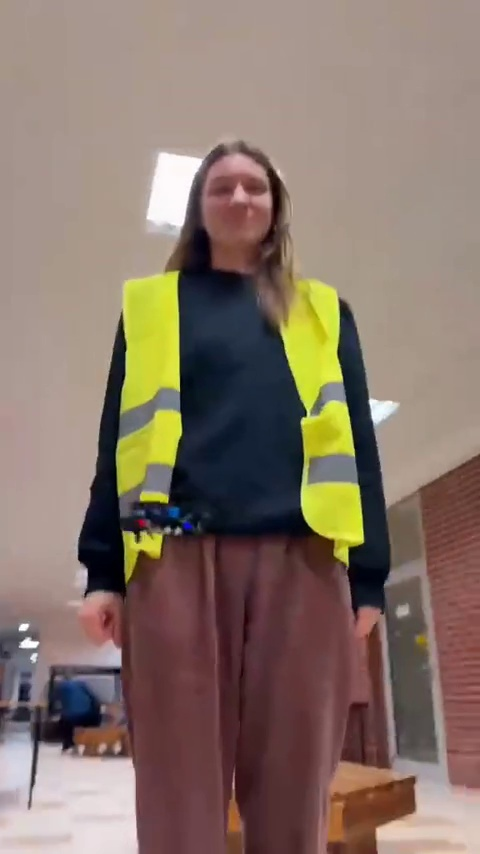drone: (122, 497, 215, 532)
vest: (86, 147, 382, 851)
